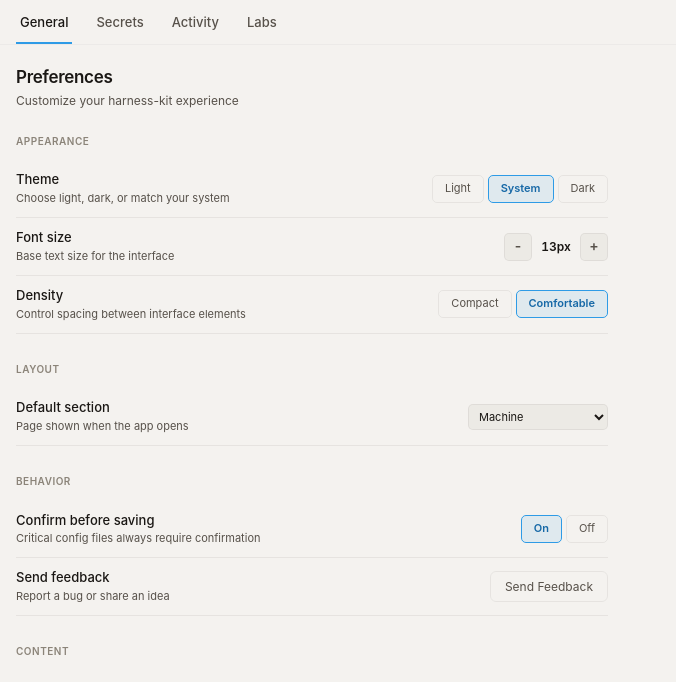
it: PreferencesPage › increments font size when + is clicked
Expected: the text "13px" is shown, [540,238,572,255]
Click the button named "Increase font size".
click(594, 246)  # box [580,232,608,260]
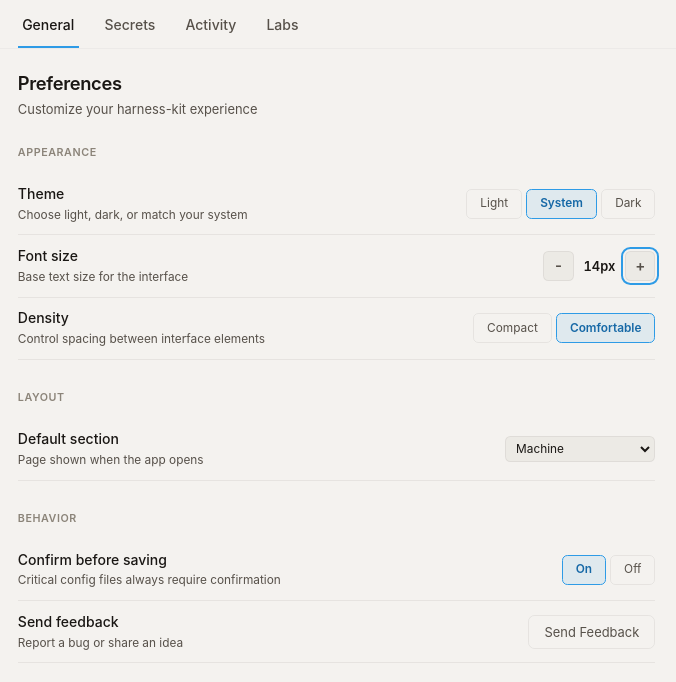
Expected: the text "14px" is shown, [582,257,617,275]
